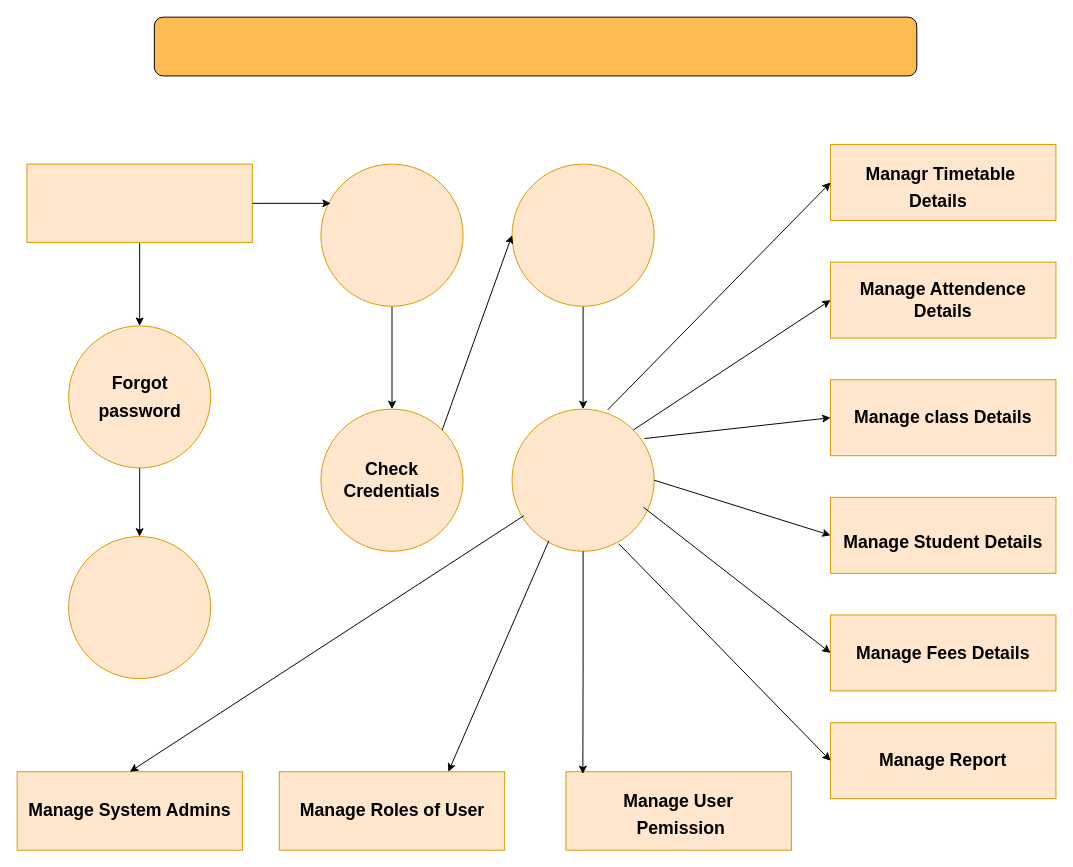
Image size: 1073x867. Some labels were removed from this diagram. The shapes that lost their labels are listed below. From the top down, each one's centre as x and y in pixels, then its label:
At point 535,46: "Student Information System.".
At point 139,203: "Admin".
At point 391,234: "Login to System".
At point 582,234: "Check Roles of Access".
At point 582,479: "Manage Modules".
At point 139,607: "Send Email To User".
